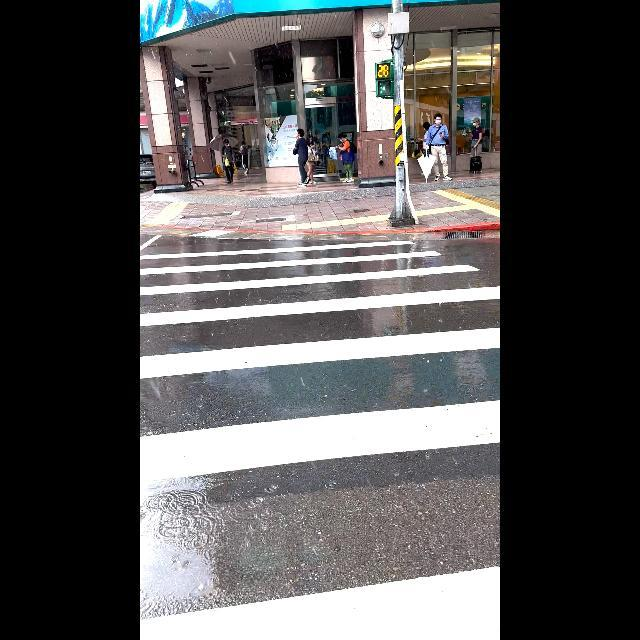sidewalk: (142, 239, 499, 639)
